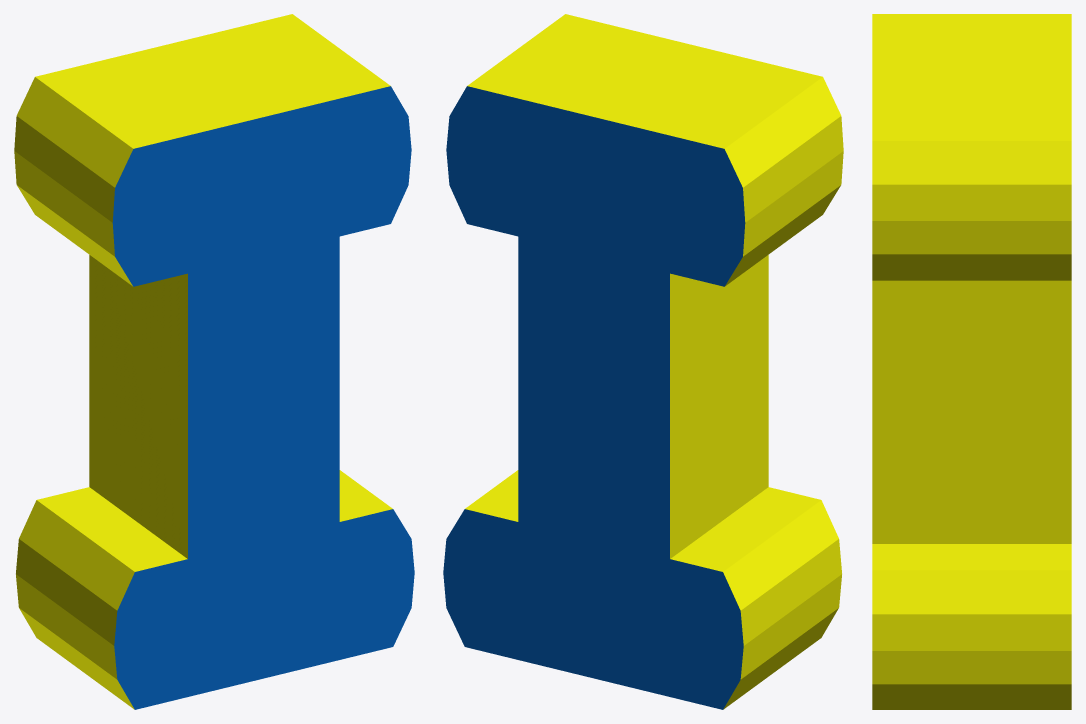
The picture shows the model from 3 angles, left to right: view 1: azimuth 30°, elevation 25°; view 2: azimuth 150°, elevation 25°; view 3: azimuth 270°, elevation 25°; orthographic projection.
Visible parts, largest first — view 1: text: ABCDEFGHIJKLMNOPQRSTUVWXYZ01234567891_sep9_blue, text: ABCDEFGHIJKLMNOPQRSTUVWXYZ01234567891_sep9_yellow; view 2: text: ABCDEFGHIJKLMNOPQRSTUVWXYZ01234567891_sep9_blue, text: ABCDEFGHIJKLMNOPQRSTUVWXYZ01234567891_sep9_yellow; view 3: text: ABCDEFGHIJKLMNOPQRSTUVWXYZ01234567891_sep9_yellow.
Boxes of the visible parts, x1,y1,x2,y2 form: text: ABCDEFGHIJKLMNOPQRSTUVWXYZ01234567891_sep9_blue: (112, 86, 414, 709); text: ABCDEFGHIJKLMNOPQRSTUVWXYZ01234567891_sep9_yellow: (14, 14, 392, 709); text: ABCDEFGHIJKLMNOPQRSTUVWXYZ01234567891_sep9_blue: (443, 86, 745, 709); text: ABCDEFGHIJKLMNOPQRSTUVWXYZ01234567891_sep9_yellow: (465, 14, 843, 709); text: ABCDEFGHIJKLMNOPQRSTUVWXYZ01234567891_sep9_yellow: (872, 14, 1071, 709).
Bounding box in the file's own units: 44.27 × 78.65 × 25.
